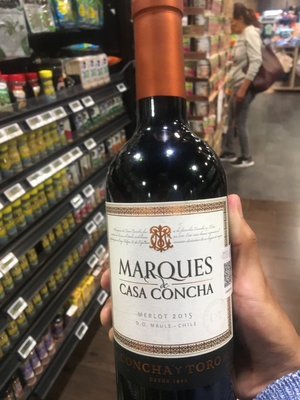marques de casa concha merlot: (85, 13, 255, 387)
